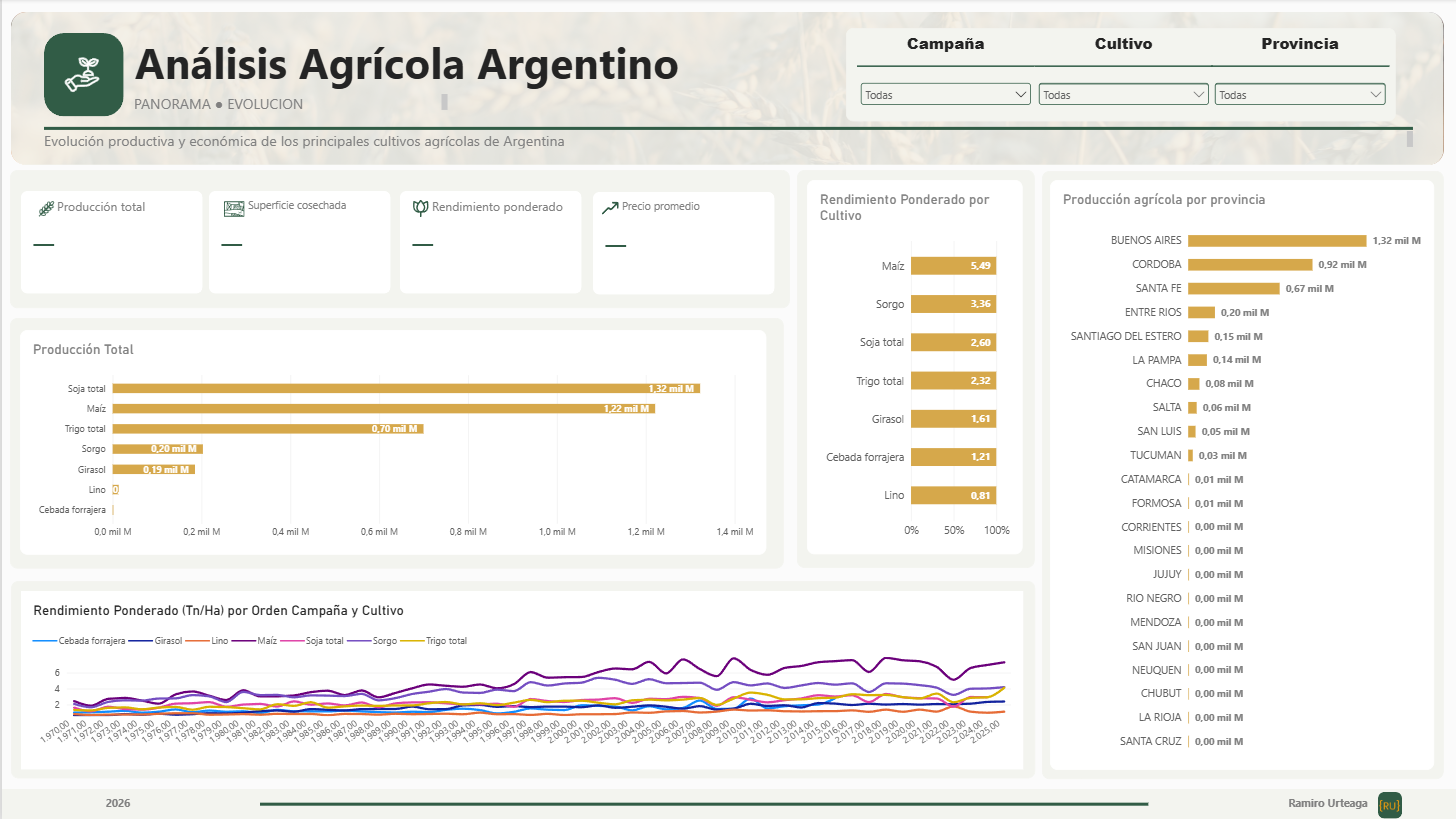

This screenshot's page, from the dashboard's own definition file:
{"tool":"powerbi","page":{"name":"Panorama","canvas":[1920,1080],"ordinal":0},"visuals":[{"type":"shape","box":[0,1040,1920,40],"z":0},{"type":"image","box":[11.4,17.1,1887.1,201.4],"z":1000},{"type":"shape","box":[11.7,16.7,1886.7,201.7],"z":2000},{"type":"shape","box":[55,45,105,110],"z":3000},{"type":"image","box":[80.6,73.9,50,52.2],"z":4000},{"type":"textbox","box":[175,45,823.3,80],"z":5000},{"type":"textbox","box":[174.3,125.7,412.9,22.9],"z":6000},{"type":"shape","box":[55,155,1803.3,30],"z":7000},{"type":"textbox","box":[55,173.3,1803.3,23.3],"z":8000},{"type":"shape","box":[11.1,225.6,1026.7,182.2],"z":9000},{"type":"cardVisual","title":"Produicción total","fields":{"Data":["Estimaciones Agrícolas.KPI Producción"]},"box":[24.4,253.3,239,135.5],"z":10000},{"type":"image","box":[45.2,261.6,27.1,28.6],"z":11000},{"type":"cardVisual","title":"Produicción total","fields":{"Data":["Estimaciones Agrícolas.KPI Superficie"]},"box":[272.2,253.3,239,135.5],"z":12000},{"type":"textbox","box":[72.3,261.6,145,29],"z":13000},{"type":"textbox","box":[320.2,261.6,145,29],"z":14000},{"type":"image","box":[293,261.6,27.4,28.4],"z":15000},{"type":"cardVisual","title":"Produicción total","fields":{"Data":["Estimaciones Agrícolas.KPI Rendimiento"]},"box":[524.4,253.3,239,135.5],"z":16000},{"type":"textbox","box":[566,262,204.3,29.3],"z":17000},{"type":"image","box":[540,264,23.1,24.4],"z":18000},{"type":"cardVisual","title":"Produicción total","fields":{"Data":["Estimaciones Agrícolas.KPI Precio"]},"box":[778.6,253.6,239,135.5],"z":19000},{"type":"textbox","box":[812,264,145,29],"z":20000},{"type":"image","box":[790,263,21.7,24.2],"z":21000},{"type":"shape","box":[11.1,420,1018.9,330],"z":22000},{"type":"barChart","title":"Producción Total","fields":{"Category":["DimCultivosPrecios.Cultivo"],"Y":["Estimaciones Agrícolas.Producción Total (Tn)"]},"box":[23.3,435.6,983.3,295.6],"z":23000},{"type":"shape","box":[1111.2,38.8,723.8,122.5],"z":24000},{"type":"shape","box":[1047.1,225.7,312.9,524.3],"z":25000},{"type":"hundredPercentStackedBarChart","title":"Rendimiento Ponderado por Cultivo","fields":{"Category":["DimCultivosPrecios.Cultivo"],"Y":["Estimaciones Agrícolas.Rendimiento Ponderado (Tn/Ha)"]},"box":[1060,238.6,284.3,492.9],"z":26000},{"type":"shape","box":[1370,226.7,528.6,801.4],"z":27000},{"type":"clusteredBarChart","title":"Producción agrícola por provincia","fields":{"Category":["DimGeografia.Provincia"],"Y":["Estimaciones Agrícolas.Producción Total (Tn)"]},"box":[1380,238.6,505.7,777.1],"z":28000},{"type":"shape","box":[11.4,767.1,1348.6,260],"z":29000},{"type":"shape","box":[340,1040,1170,40],"z":30000},{"type":"textbox","box":[1593.3,1050,305.6,30],"z":31000},{"type":"textbox","box":[0,1050,305.6,30],"z":32000},{"type":"lineChart","fields":{"Category":["DimCampañas.Orden Campaña"],"Series":["DimCultivosPrecios.Cultivo"],"Y":["Estimaciones Agrícolas.Rendimiento Ponderado (Tn/Ha)"]},"box":[25,780,1320,235],"z":34000},{"type":"slicer","title":"Campaña","fields":{"Values":["DimCampañas.Campana"]},"box":[1126.2,43.8,233.8,111.2],"z":35000},{"type":"slicer","title":"Cultivo","fields":{"Values":["DimCultivosPrecios.Cultivo"]},"box":[1360,43.8,233.8,117.5],"z":36000},{"type":"slicer","title":"Provincia","fields":{"Values":["DimGeografia.Provincia"]},"box":[1592.5,43.8,235,117.5],"z":37000},{"type":"shape","box":[1812.5,1045,31.7,35],"z":38000},{"type":"image","box":[1811.3,1045.3,33.3,33.3],"z":39000}]}

Visuals, with their boxes in screenshot pixels (x1, y1, x2, y2), scaled from the page's 1920x1080 canvas onto the 1456x819 screenshot:
shape: [left=0, top=789, right=1455, bottom=818]
image: [left=9, top=13, right=1440, bottom=166]
shape: [left=9, top=13, right=1440, bottom=166]
shape: [left=42, top=34, right=121, bottom=118]
image: [left=61, top=56, right=99, bottom=96]
textbox: [left=133, top=34, right=757, bottom=95]
textbox: [left=132, top=95, right=445, bottom=113]
shape: [left=42, top=118, right=1409, bottom=140]
textbox: [left=42, top=131, right=1409, bottom=149]
shape: [left=8, top=171, right=787, bottom=309]
"Produicción total" cardVisual: [left=19, top=192, right=200, bottom=295]
image: [left=34, top=198, right=55, bottom=220]
"Produicción total" cardVisual: [left=206, top=192, right=388, bottom=295]
textbox: [left=55, top=198, right=165, bottom=220]
textbox: [left=243, top=198, right=353, bottom=220]
image: [left=222, top=198, right=243, bottom=220]
"Produicción total" cardVisual: [left=398, top=192, right=579, bottom=295]
textbox: [left=429, top=199, right=584, bottom=221]
image: [left=410, top=200, right=427, bottom=219]
"Produicción total" cardVisual: [left=590, top=192, right=772, bottom=295]
textbox: [left=616, top=200, right=726, bottom=222]
image: [left=599, top=199, right=616, bottom=218]
shape: [left=8, top=318, right=781, bottom=569]
"Producción Total" barChart: [left=18, top=330, right=763, bottom=554]
shape: [left=843, top=29, right=1392, bottom=122]
shape: [left=794, top=171, right=1031, bottom=569]
"Rendimiento Ponderado por Cultivo" hundredPercentStackedBarChart: [left=804, top=181, right=1019, bottom=555]
shape: [left=1039, top=172, right=1440, bottom=780]
"Producción agrícola por provincia" clusteredBarChart: [left=1046, top=181, right=1430, bottom=770]
shape: [left=9, top=582, right=1031, bottom=779]
shape: [left=258, top=789, right=1145, bottom=818]
textbox: [left=1208, top=796, right=1440, bottom=818]
textbox: [left=0, top=796, right=232, bottom=818]
lineChart - DimCampañas.Orden Campaña x DimCultivosPrecios.Cultivo: [left=19, top=592, right=1020, bottom=770]
"Campaña" slicer: [left=854, top=33, right=1031, bottom=118]
"Cultivo" slicer: [left=1031, top=33, right=1209, bottom=122]
"Provincia" slicer: [left=1208, top=33, right=1386, bottom=122]
shape: [left=1374, top=792, right=1399, bottom=818]
image: [left=1374, top=793, right=1399, bottom=818]
